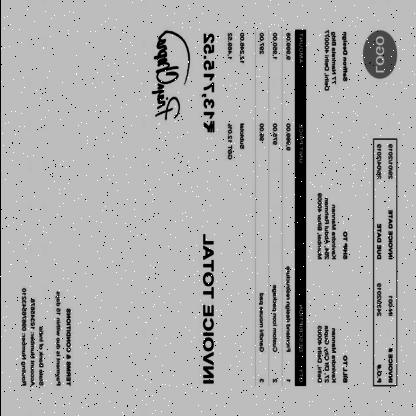Paragraph: (198, 31, 217, 388), (372, 140, 396, 386), (18, 286, 72, 390), (224, 29, 246, 163), (315, 191, 349, 263), (315, 322, 348, 386), (322, 28, 350, 94)
Table: (255, 28, 305, 387)
